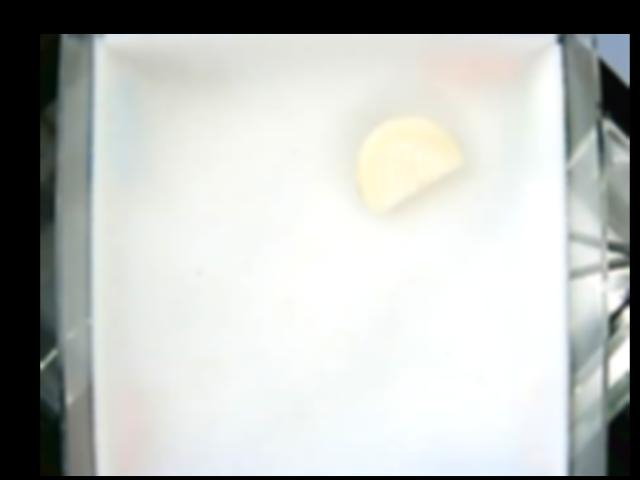Mooli: (358, 117, 465, 211)
